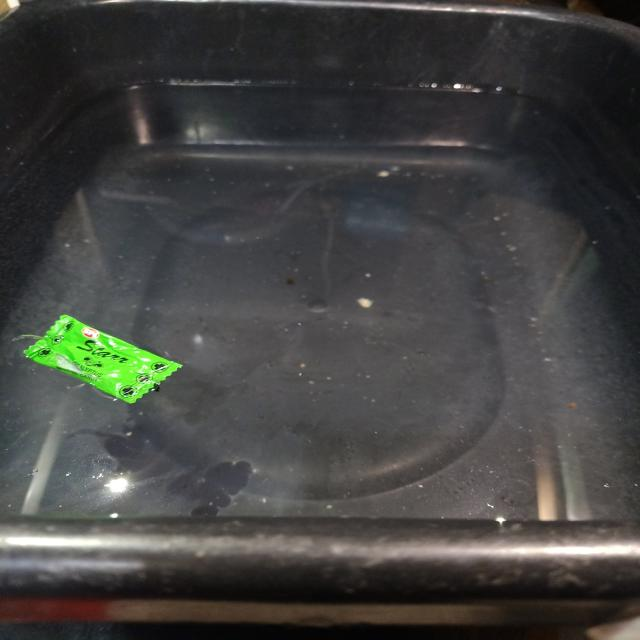Plastic Wrapper: (24, 315, 181, 403)
